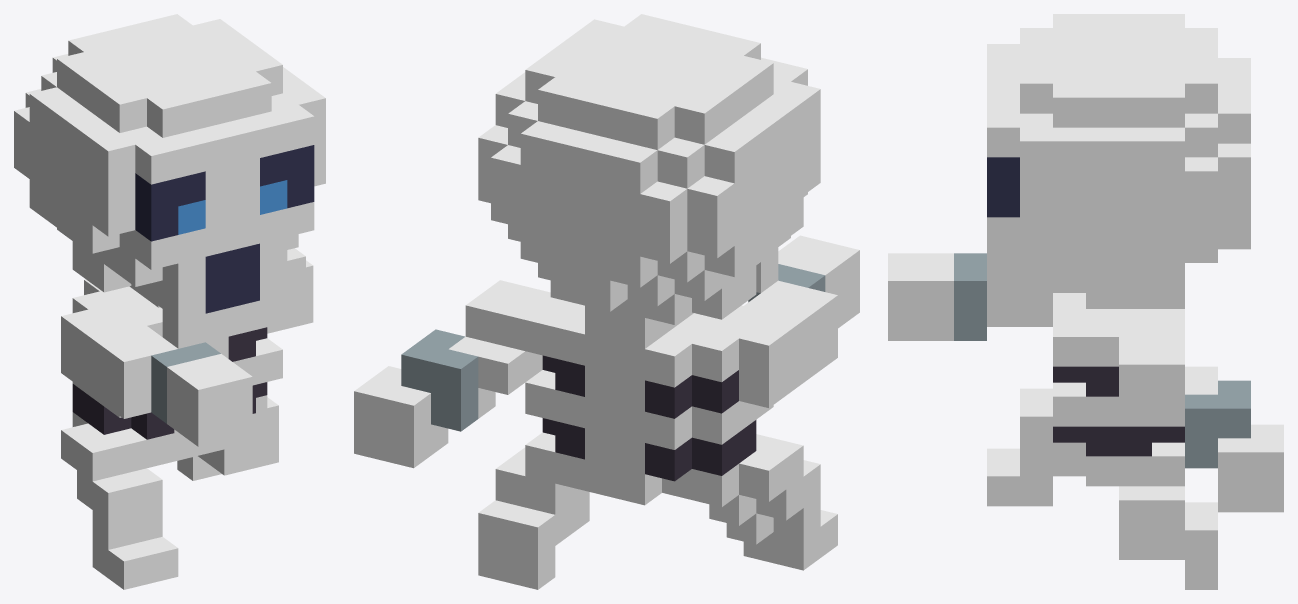
Rendered from Player-3-Attack_1.obj.
The picture shows the model from 3 angles, left to right: view 1: azimuth 30°, elevation 25°; view 2: azimuth 150°, elevation 25°; view 3: azimuth 270°, elevation 25°; orthographic projection. The views are drawn at different scales.
Parts seen in each view (by area): view 1: Attack_1; view 2: Attack_1; view 3: Attack_1.
Boxes of the visible parts, x1,y1,x2,y2 form: Attack_1: [14, 14, 325, 589]; Attack_1: [354, 14, 859, 589]; Attack_1: [888, 14, 1283, 589].
Size of the model in its own units: 1.1 by 1.6 by 1.2.
1 material, 1 textured.
